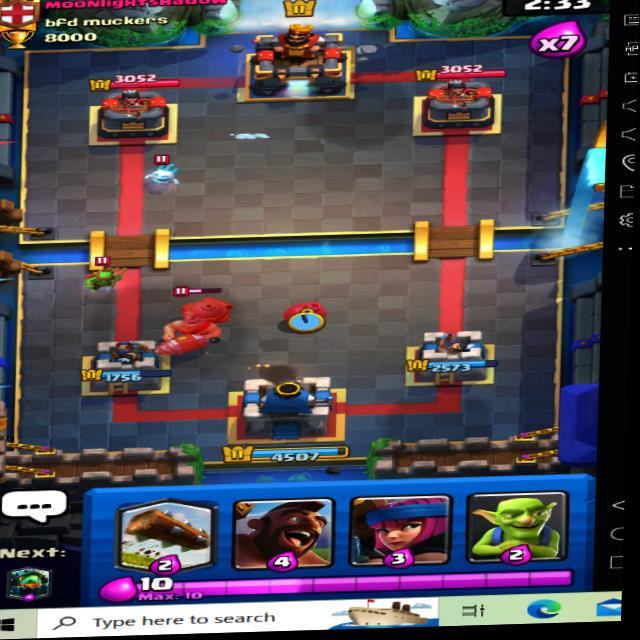ice-spirit: (141, 153, 183, 188)
mighty-miner: (156, 281, 249, 356)
spear-goblin: (81, 261, 125, 289)
